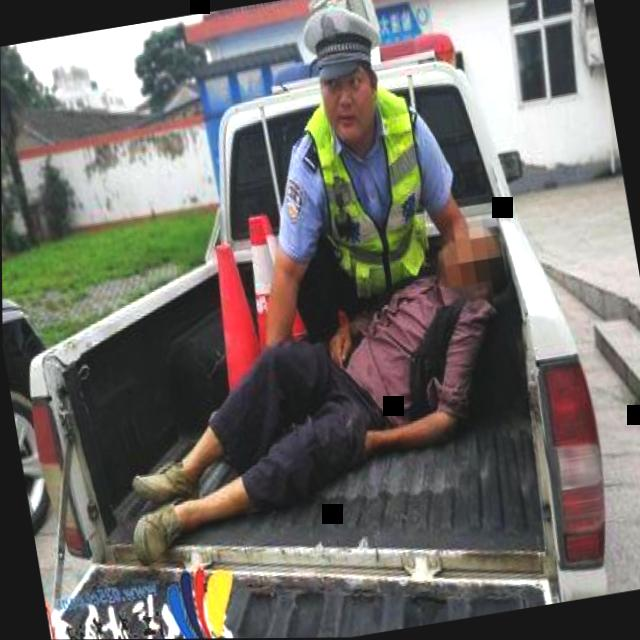Fall-Detected: (79, 201, 560, 567)
